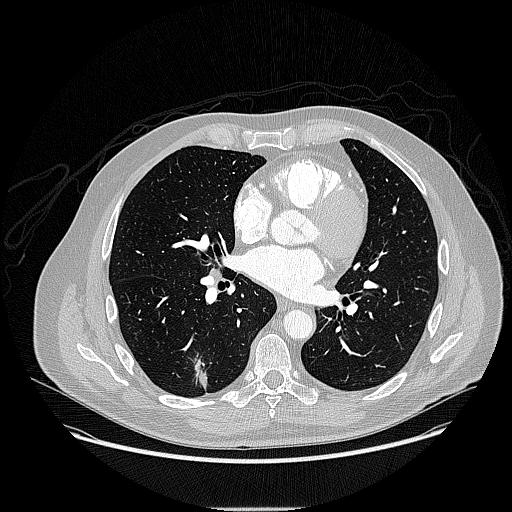nodule: (189, 362, 209, 382)
